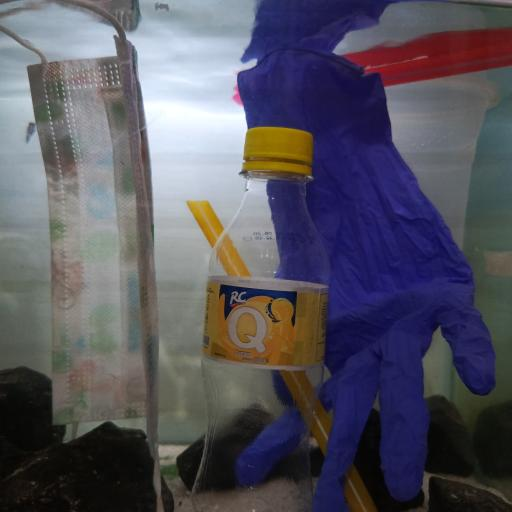bottle_cap: (244, 127, 313, 165)
glove: (235, 50, 496, 512)
mask: (0, 0, 163, 469)
plastic_bottle: (188, 127, 328, 511)
plastic_straw: (185, 200, 379, 512), (230, 49, 512, 104)
